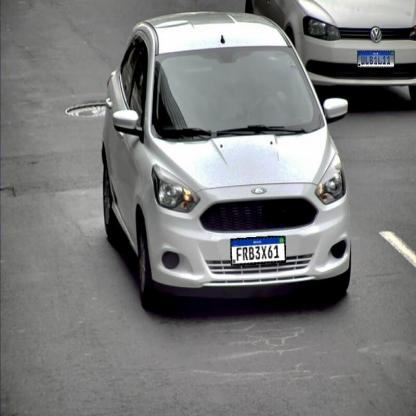PlacaM: (230, 236, 286, 266), (357, 51, 395, 67)
